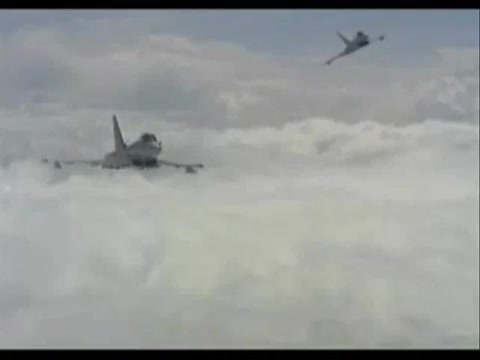aeroplane: (58, 115, 207, 177)
